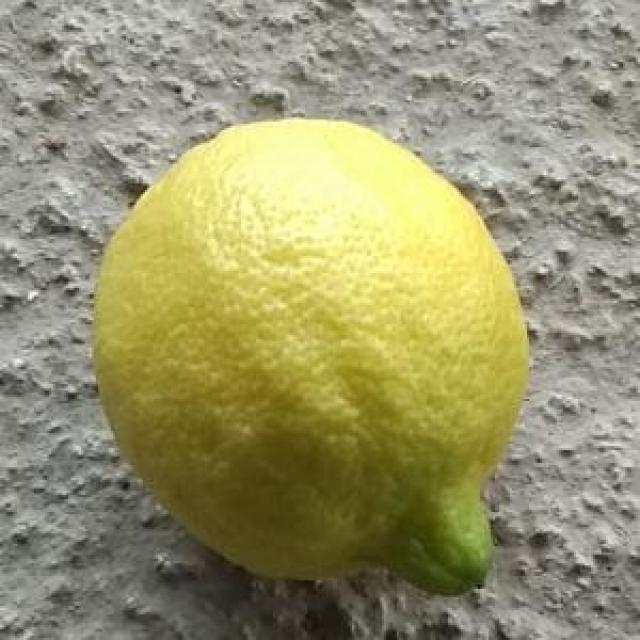lemon: (93, 119, 527, 596)
